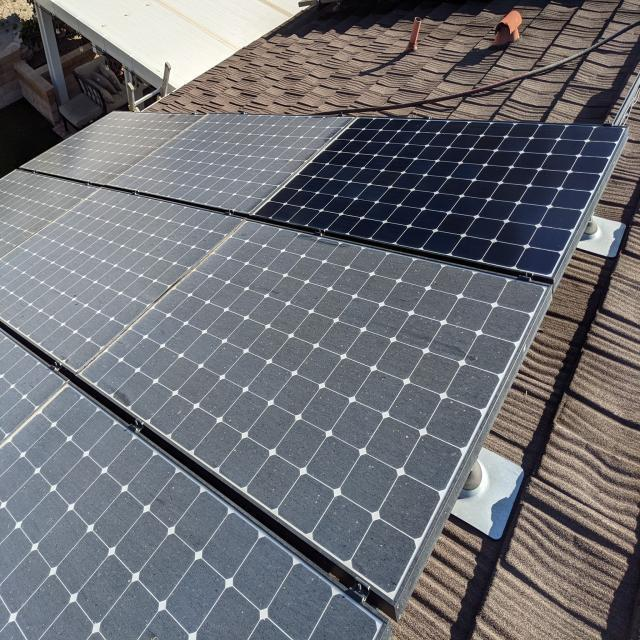Dusty: (81, 228, 544, 595), (4, 399, 383, 639), (3, 189, 236, 364), (125, 113, 335, 206), (24, 112, 182, 182), (1, 171, 95, 250)
